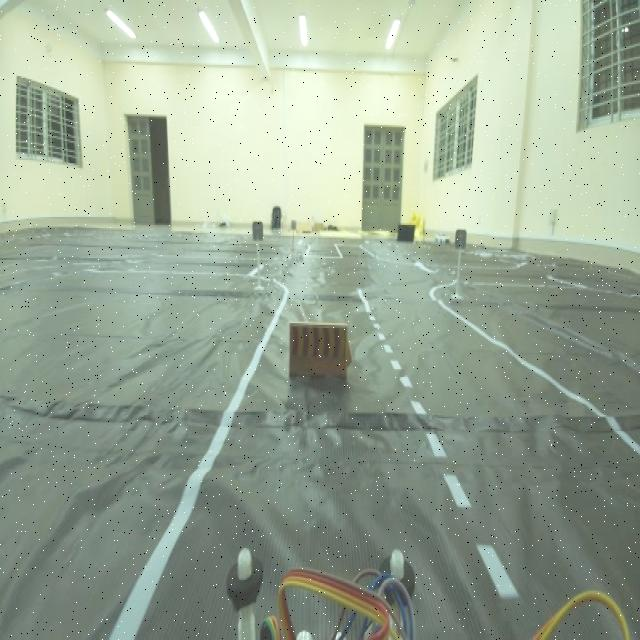roadblock: (280, 312, 358, 395)
